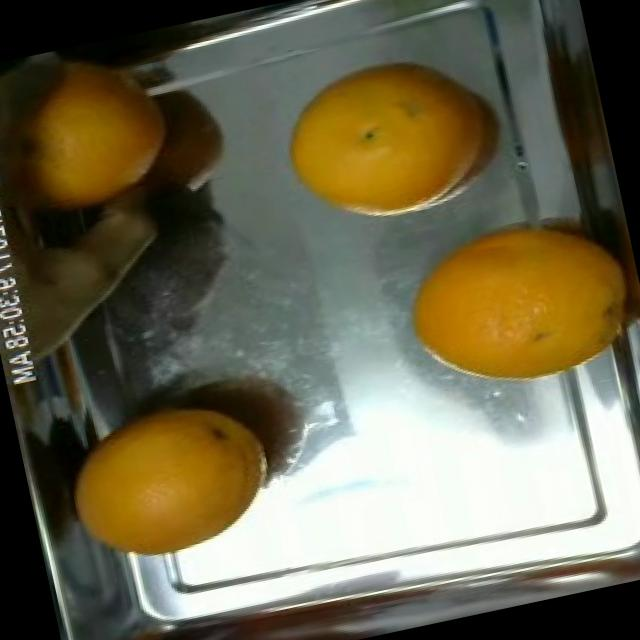Fruit: (30, 364, 283, 582), (256, 32, 504, 244), (114, 66, 254, 217)
